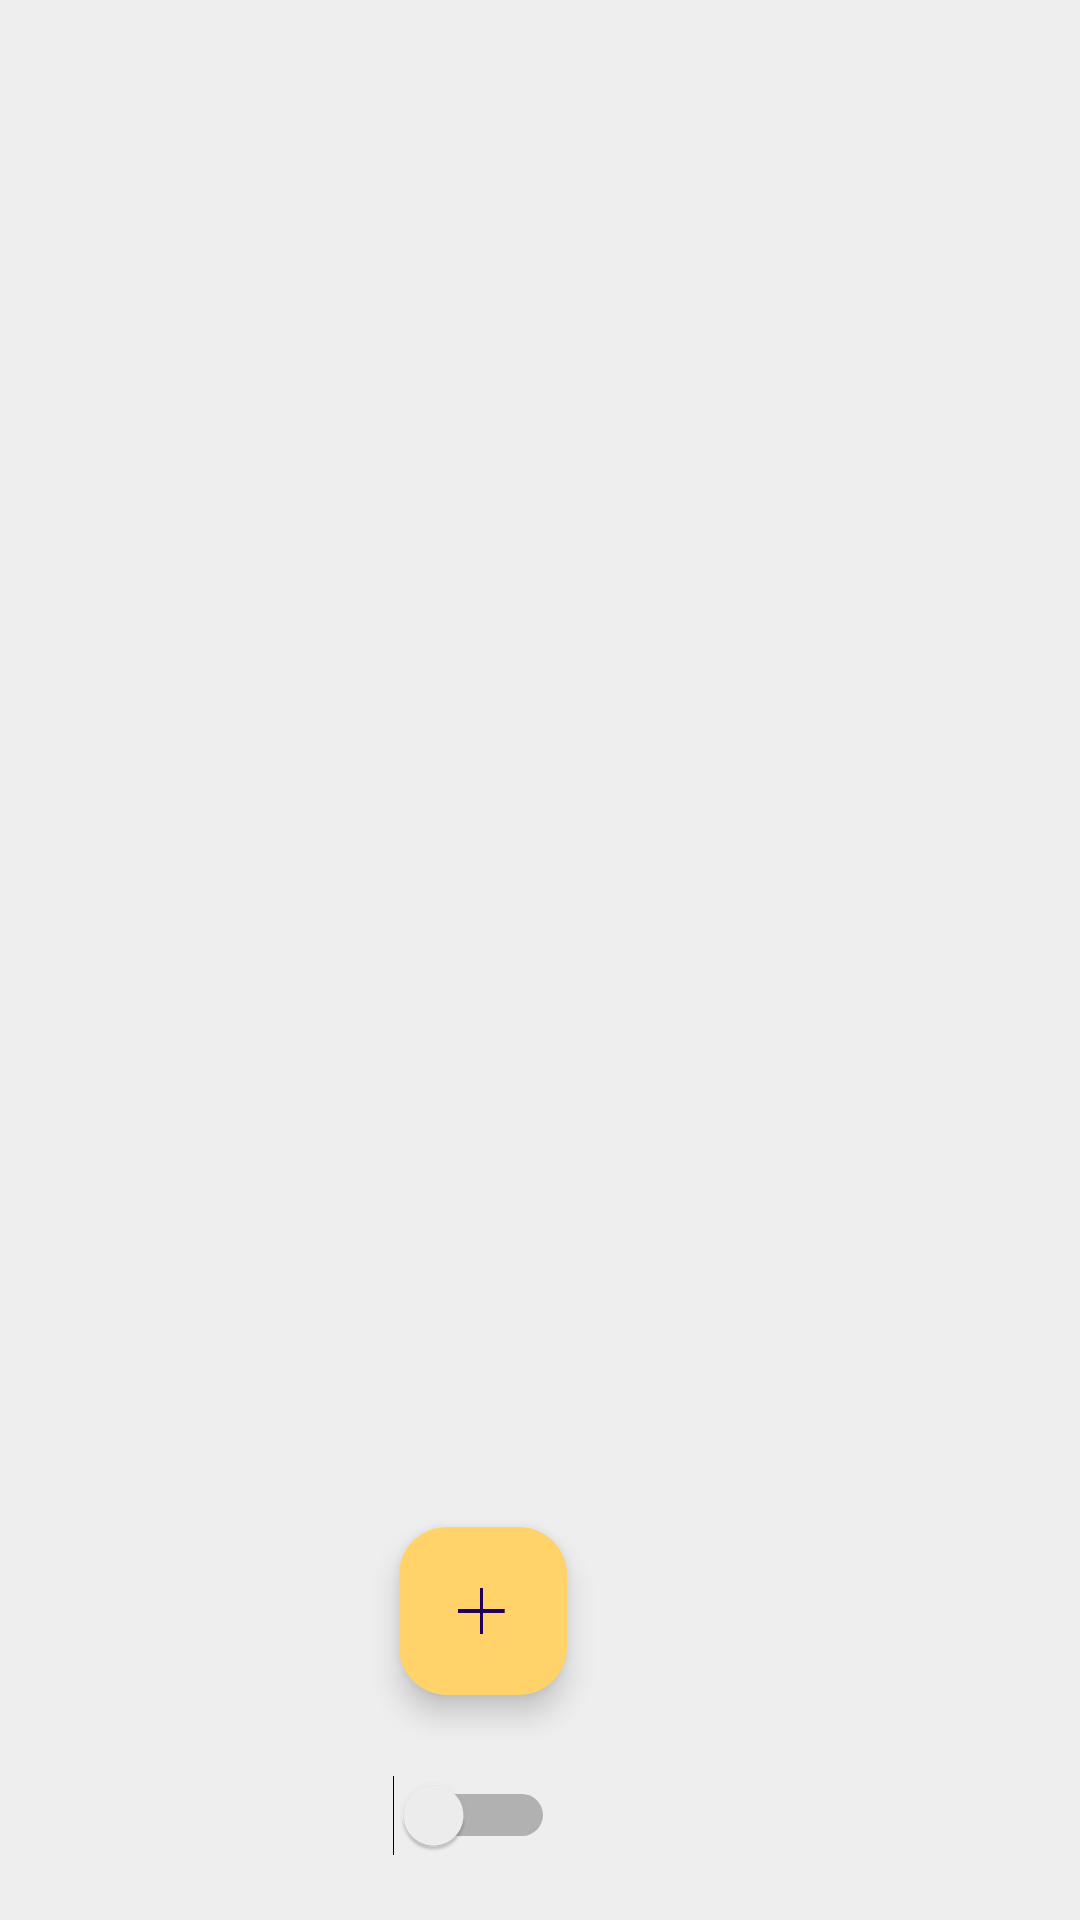

Named icons in this screenshot (1080 x 1920) and their bounding boxes, (x1, y1, x2, y2):
New: (399, 1527, 567, 1695)
